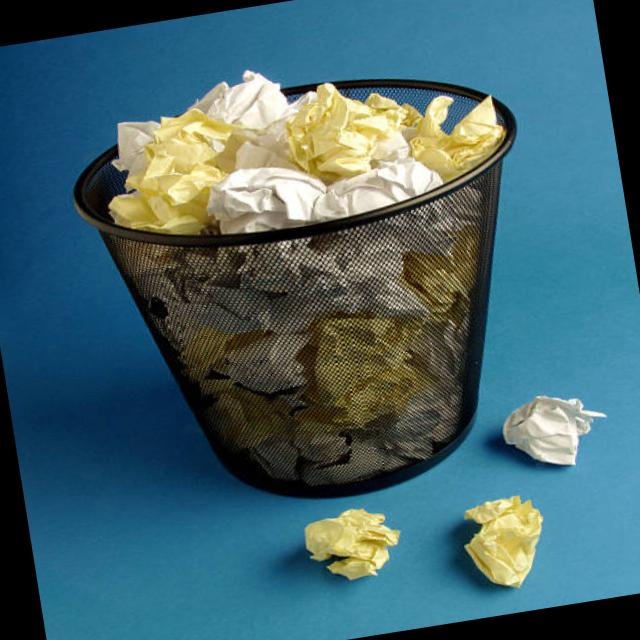electronic: (200, 155, 332, 240), (496, 384, 614, 476), (456, 490, 552, 596), (299, 501, 406, 587)
